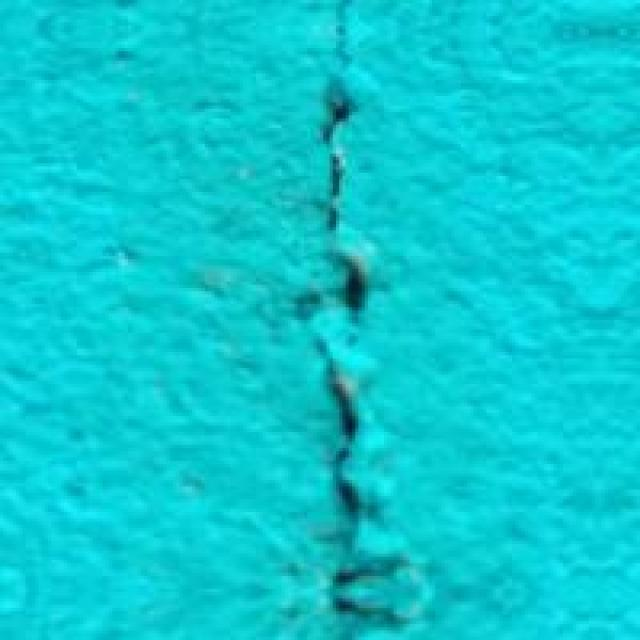crack: (270, 0, 448, 640)
